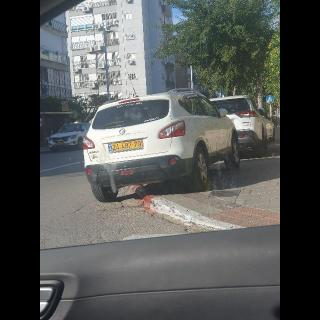LicensePlate: (111, 140, 143, 151)
